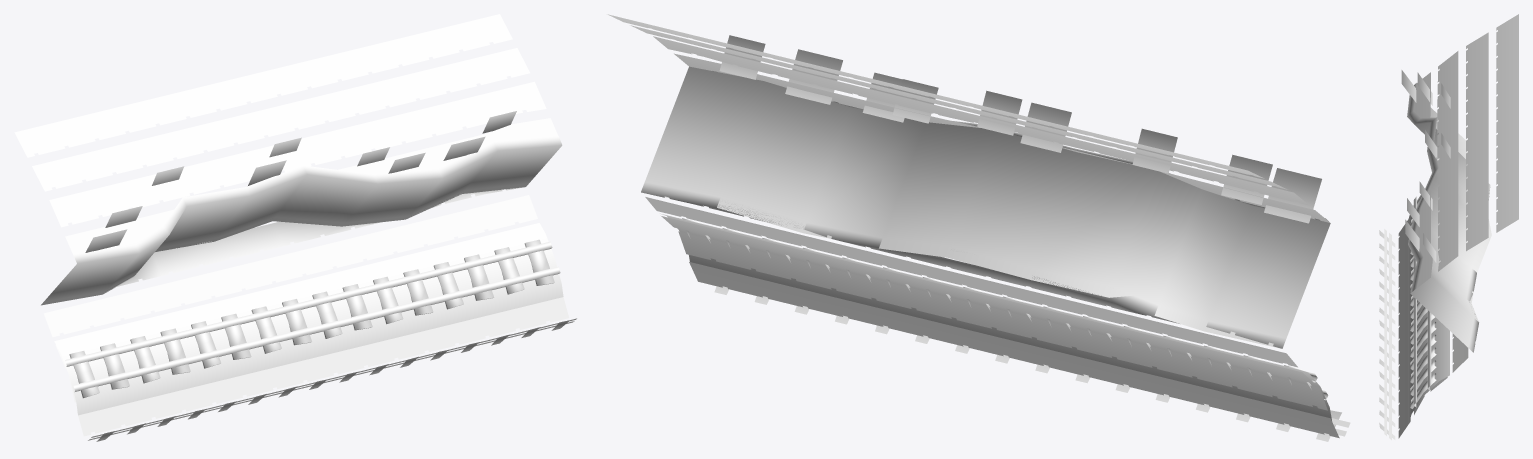
Rendered from grd_En_0.dae.
The picture shows the model from 3 angles, left to right: view 1: azimuth 30°, elevation 25°; view 2: azimuth 150°, elevation 25°; view 3: azimuth 270°, elevation 25°; orthographic projection. The views are drawn at different scales.
Parts seen in each view (by area): view 1: grd_En_0; view 2: grd_En_0; view 3: grd_En_0.
Boxes of the visible parts, <box> form: grd_En_0: <box>14,14,576,441</box>; grd_En_0: <box>607,14,1350,441</box>; grd_En_0: <box>1379,14,1518,440</box>.
Size of the model in its own units: 512 by 262 by 147.
Materials: 4 (1 with a texture image).
